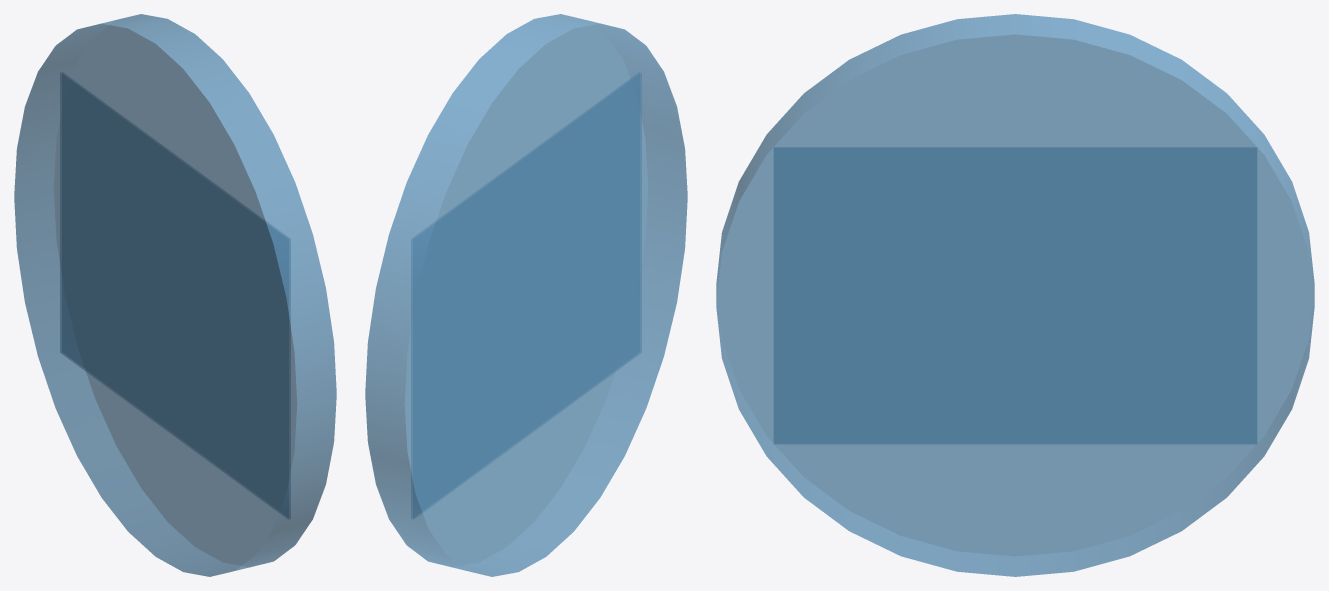
The model's file is SpeedMultiplier.fbx.
3 views of the same model, side by side, from view 1: azimuth 30°, elevation 25°; view 2: azimuth 150°, elevation 25°; view 3: azimuth 270°, elevation 25° (orthographic). The views are drawn at different scales.
Visible parts, largest first — view 1: Speed; view 2: Speed; view 3: Speed.
Boxes of the visible parts, bbox=[...] form: Speed: bbox=[14, 14, 336, 576]; Speed: bbox=[365, 14, 687, 576]; Speed: bbox=[716, 14, 1314, 576].
Bounding box in the file's own units: 4.48 × 55.44 × 55.44.
